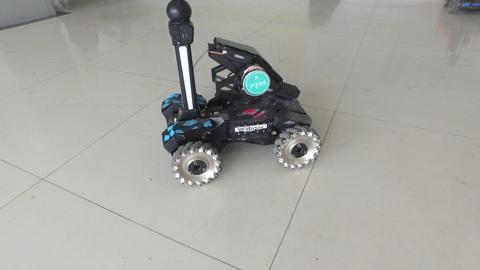chariot: (159, 1, 322, 188)
